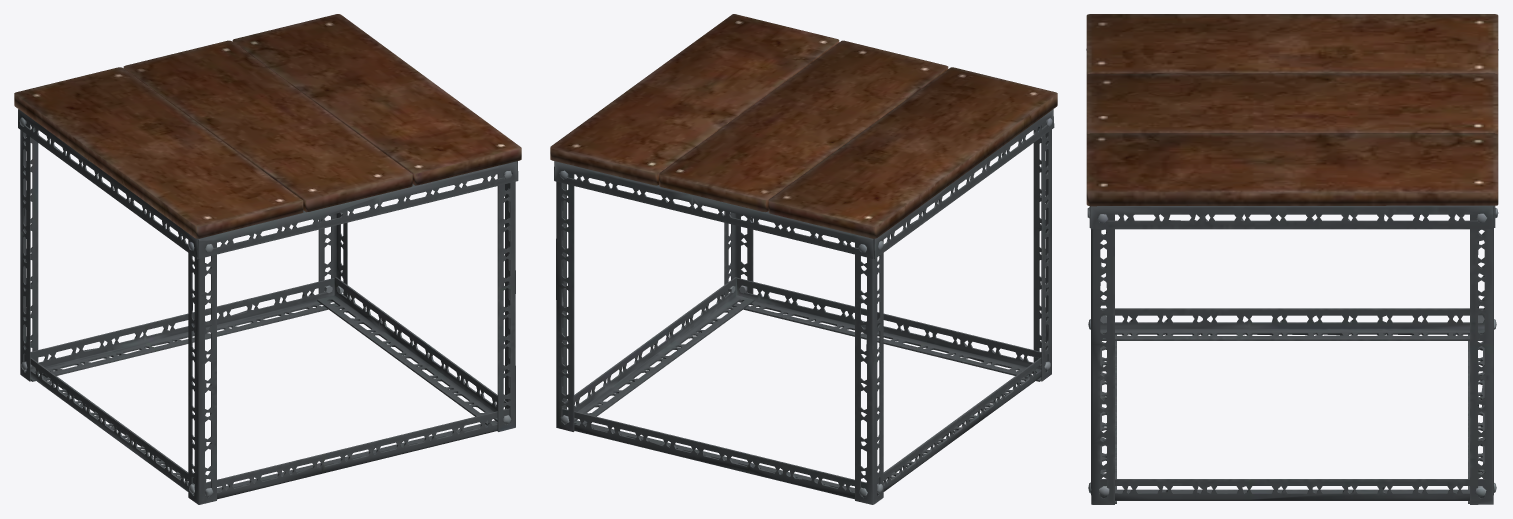
The model's file is industrial_coffee_table.glb.
3 views of the same model, side by side, from view 1: azimuth 30°, elevation 25°; view 2: azimuth 150°, elevation 25°; view 3: azimuth 270°, elevation 25° (orthographic). The views are drawn at different scales.
Parts seen in each view (by area): view 1: industrial_coffee_table; view 2: industrial_coffee_table; view 3: industrial_coffee_table.
Part boxes in pixels (x1,y1,x2,y2): industrial_coffee_table: (14,14,521,504); industrial_coffee_table: (550,14,1057,504); industrial_coffee_table: (1086,14,1498,504).
Bounding box in the file's own units: 0.7764 × 0.6375 × 0.7571.
Materials: 1 (1 with a texture image).
